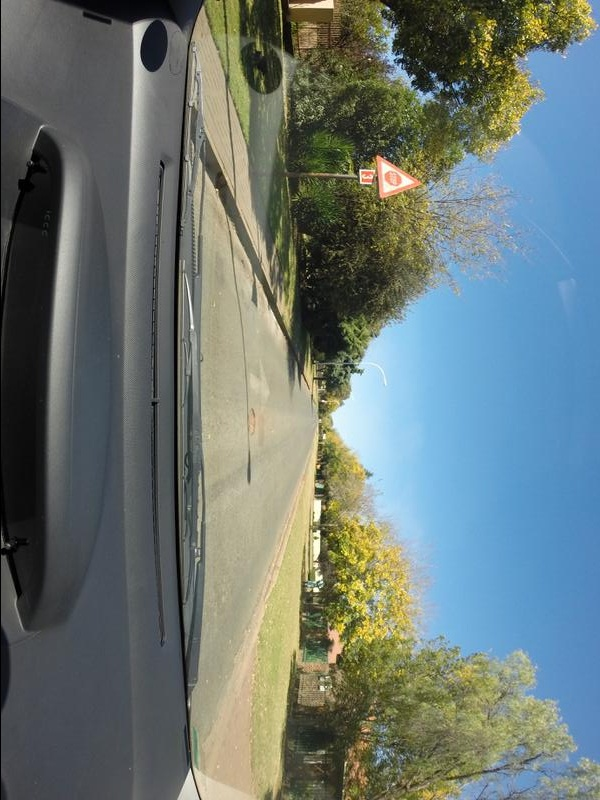pothole: (245, 408, 256, 437)
